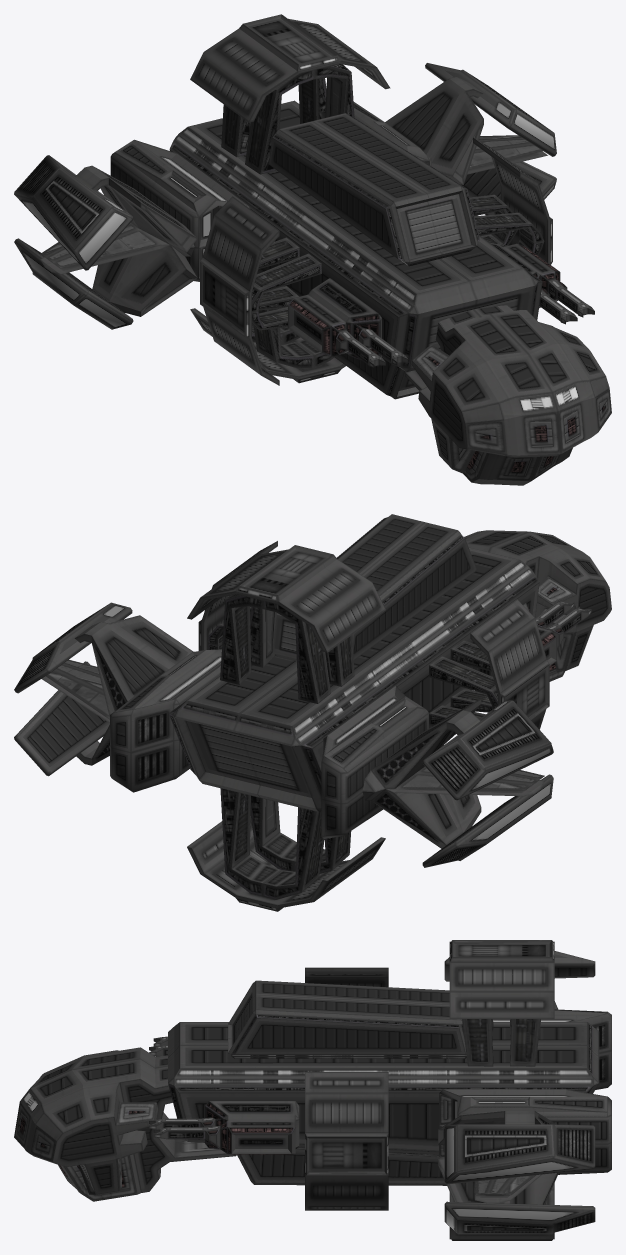
File: omegaisTioFrigateA.FBX
The picture shows the model from 3 angles, top to bottom: view 1: azimuth 30°, elevation 25°; view 2: azimuth 150°, elevation 25°; view 3: azimuth 270°, elevation 25°; orthographic projection. The views are drawn at different scales.
Parts seen in each view (by area): view 1: FrigateA; view 2: FrigateA; view 3: FrigateA.
Part boxes in pixels (x1,y1,x2,y2): FrigateA: [14, 14, 611, 485]; FrigateA: [14, 514, 611, 911]; FrigateA: [14, 940, 611, 1240].
Size of the model in its own units: 673 by 794 by 416.
